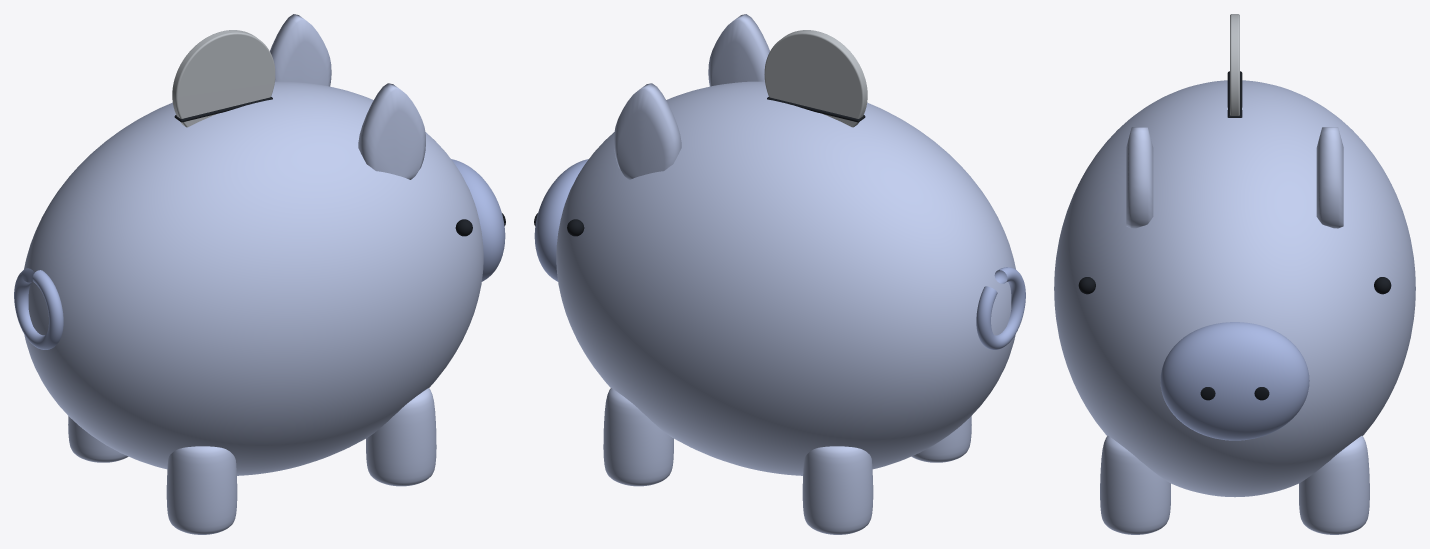
The model's file is piggy-bank.glb.
The picture shows the model from 3 angles, left to right: view 1: azimuth 30°, elevation 25°; view 2: azimuth 150°, elevation 25°; view 3: azimuth 270°, elevation 25°; orthographic projection.
Visible parts, largest first — view 1: glazed-ceramic-body-001, sculpted-surface (×3), soft-ceramic-ear (×2), coin-entering-savings-slot-014, sculpted-snout-006, curled-tail-015; view 2: glazed-ceramic-body-001, sculpted-surface (×3), soft-ceramic-ear (×2), coin-entering-savings-slot-014, sculpted-snout-006, curled-tail-015; view 3: glazed-ceramic-body-001, sculpted-snout-006, sculpted-surface (×2), soft-ceramic-ear (×2), coin-entering-savings-slot-014.
Part boxes in pixels (x1,y1,x2,y2): glazed-ceramic-body-001: (24,81,483,475); sculpted-surface (×3): (68,388,436,534); soft-ceramic-ear (×2): (270,14,425,179); coin-entering-savings-slot-014: (172,30,275,127); sculpted-snout-006: (451,159,505,281); curled-tail-015: (14,268,63,349); glazed-ceramic-body-001: (556,81,1015,475); sculpted-surface (×3): (603,388,971,534); soft-ceramic-ear (×2): (614,14,769,179); coin-entering-savings-slot-014: (764,30,867,127); sculpted-snout-006: (534,159,588,281); curled-tail-015: (976,267,1025,349); glazed-ceramic-body-001: (1054,80,1415,497); sculpted-snout-006: (1160,322,1309,440); sculpted-surface (×2): (1100,436,1369,534); soft-ceramic-ear (×2): (1126,127,1343,228); coin-entering-savings-slot-014: (1230,14,1239,115).
Size of the model in its own units: 2 by 1.83 by 1.36.
